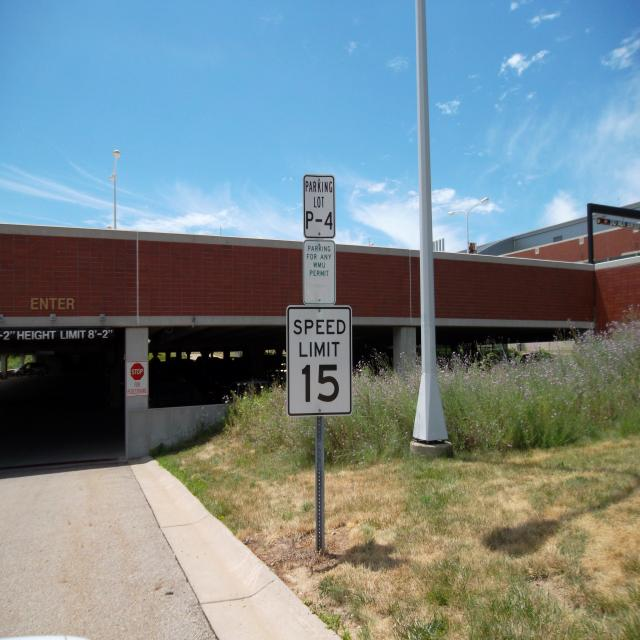regulatory: (286, 306, 352, 416), (301, 172, 342, 239), (302, 238, 337, 308)
stop: (130, 362, 144, 382)
